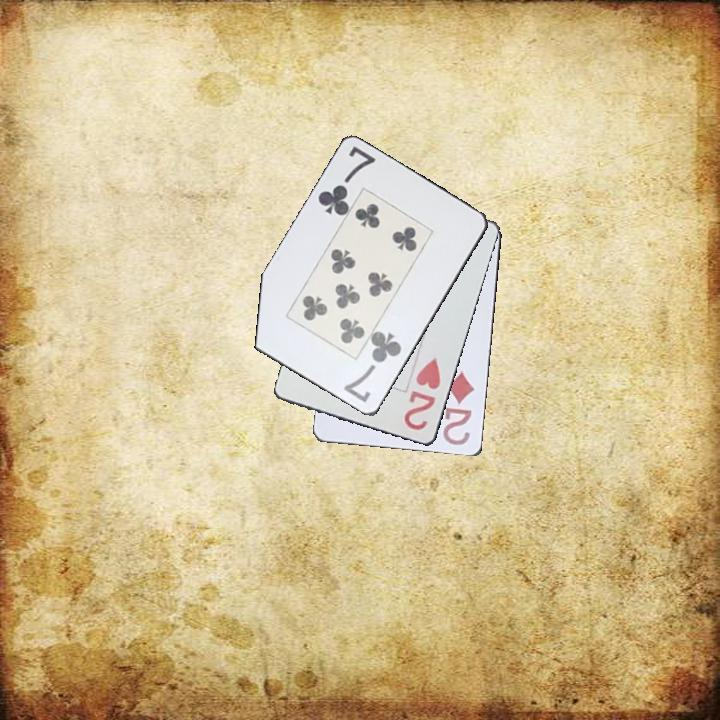2d: (440, 366, 478, 448)
2h: (401, 354, 444, 434)
7c: (314, 142, 379, 219), (341, 328, 405, 406)
